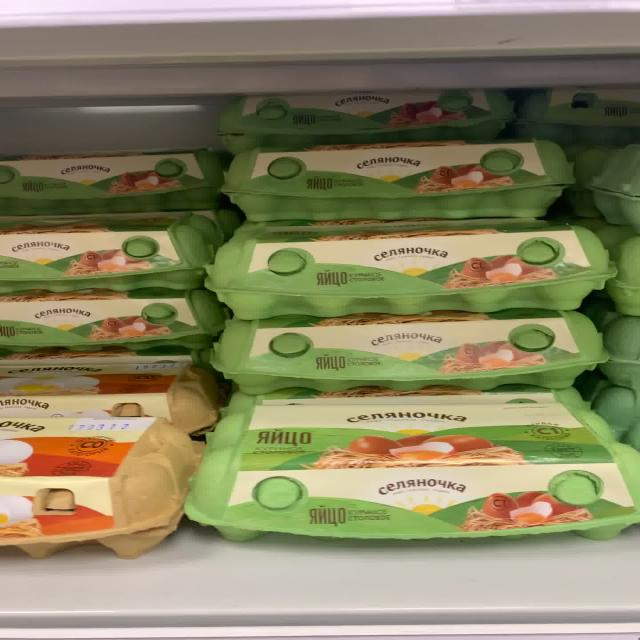egg box: (180, 405, 636, 541), (198, 218, 614, 316), (206, 308, 609, 393), (218, 143, 580, 221), (213, 93, 513, 149)
